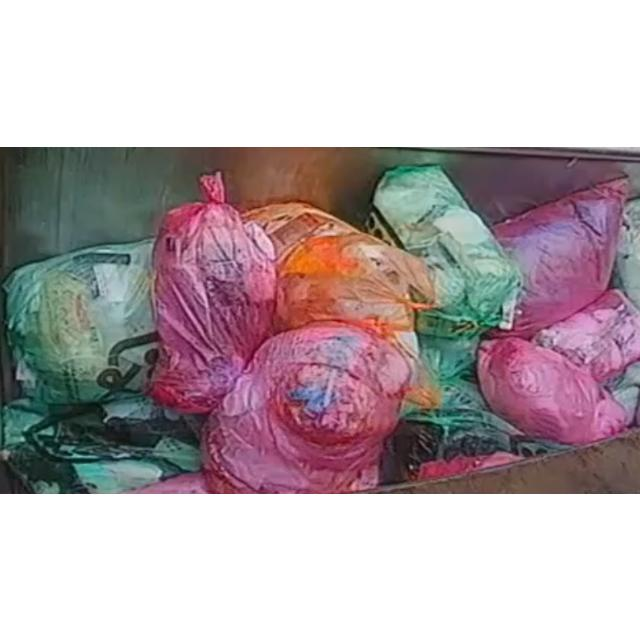general_trashbag: (368, 165, 522, 380), (4, 237, 158, 403), (2, 391, 199, 492)
other_trashbag: (205, 322, 410, 492), (150, 171, 276, 412), (242, 201, 435, 333), (492, 177, 628, 338), (478, 336, 626, 444), (532, 288, 640, 380)
